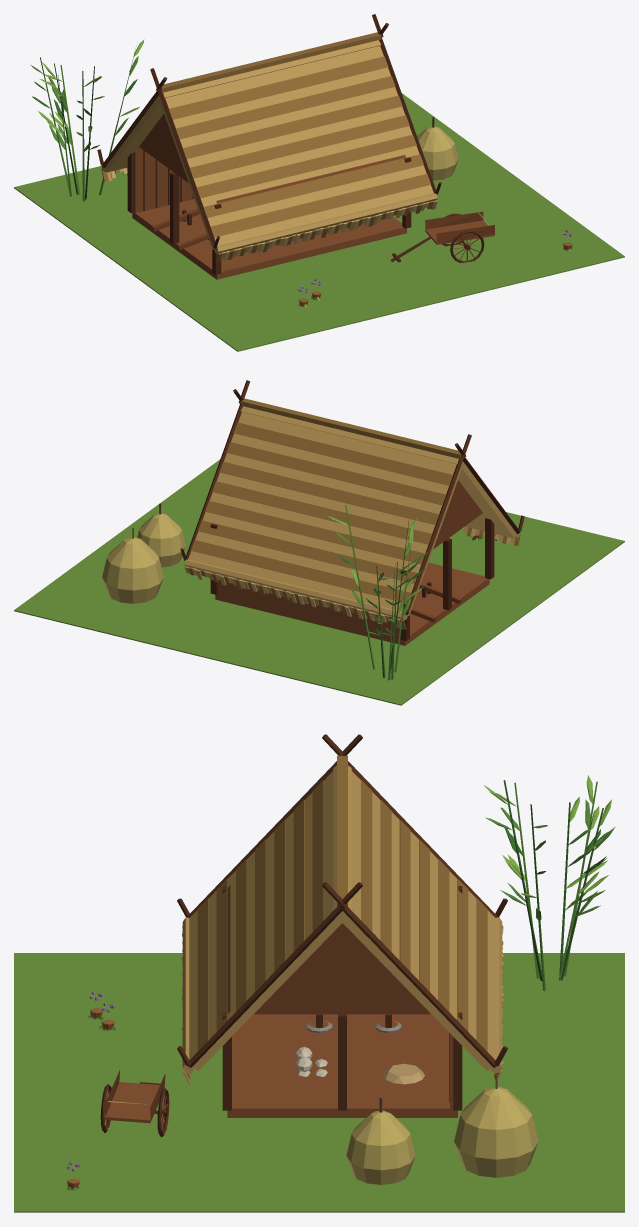
Rendered from factory_3.glb.
3 views of the same model, one above another, from view 1: azimuth 30°, elevation 25°; view 2: azimuth 150°, elevation 25°; view 3: azimuth 270°, elevation 25° (orthographic). The views are drawn at different scales.
Parts seen in each view (by area): view 1: body; view 2: body; view 3: body.
Boxes of the visible parts, bbox=[...] form: body: bbox=[14, 14, 624, 351]; body: bbox=[14, 380, 624, 705]; body: bbox=[14, 734, 624, 1212].
Bounding box in the file's own units: 15.9 × 7.3 × 15.9.
